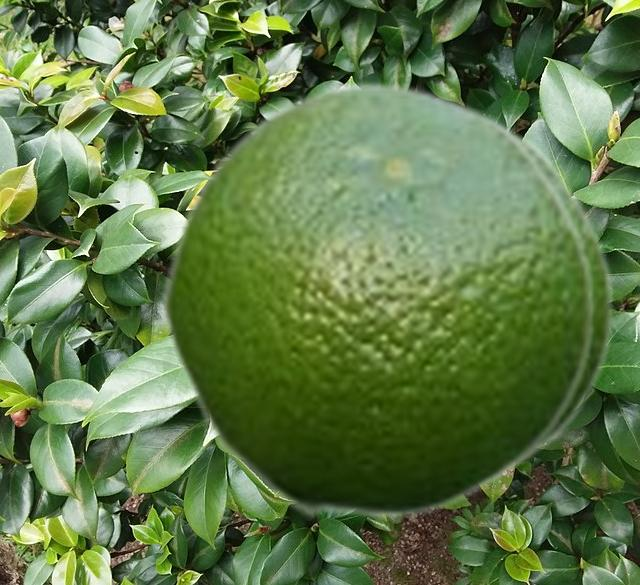calamansi: (158, 77, 596, 519), (481, 107, 615, 493)
